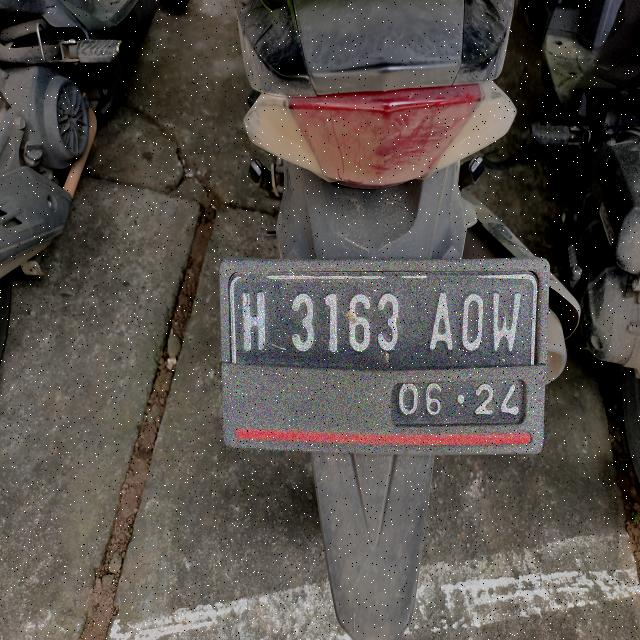plate: (221, 259, 547, 451)
